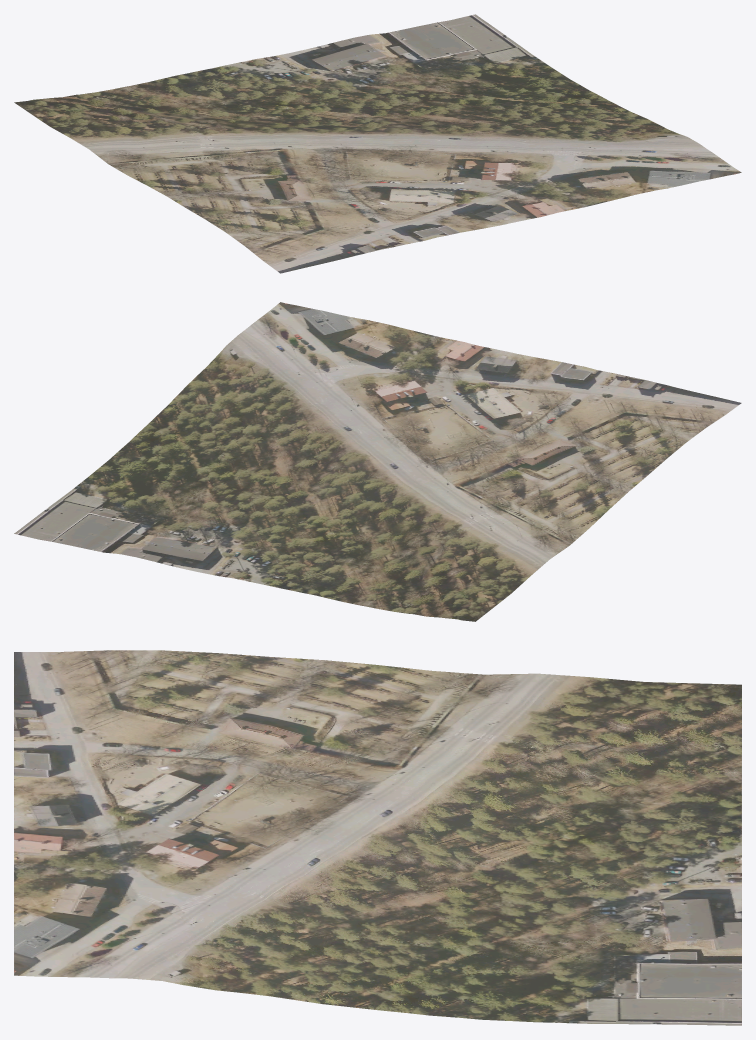
Rendered from CM_Terrain_24489434_6820408.fbx.
3 renders of one model, top to bottom at view 1: azimuth 30°, elevation 25°; view 2: azimuth 150°, elevation 25°; view 3: azimuth 270°, elevation 25°, orthographic. The views are drawn at different scales.
Visible parts, largest first — view 1: CM_Terrain_24489434_6820408_LOD0; view 2: CM_Terrain_24489434_6820408_LOD0; view 3: CM_Terrain_24489434_6820408_LOD0.
Boxes of the visible parts, box(x1,y1,x2,y2) form: CM_Terrain_24489434_6820408_LOD0: box(14, 14, 741, 273); CM_Terrain_24489434_6820408_LOD0: box(14, 302, 741, 621); CM_Terrain_24489434_6820408_LOD0: box(14, 650, 741, 1025).
Size of what is drawn, in the model's own units: 205 by 21.06 by 205.
